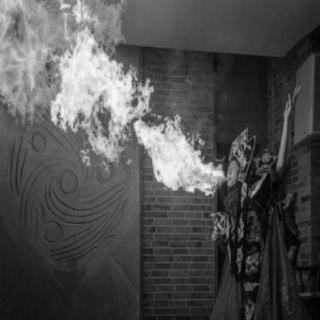Fire: (0, 0, 226, 196)
